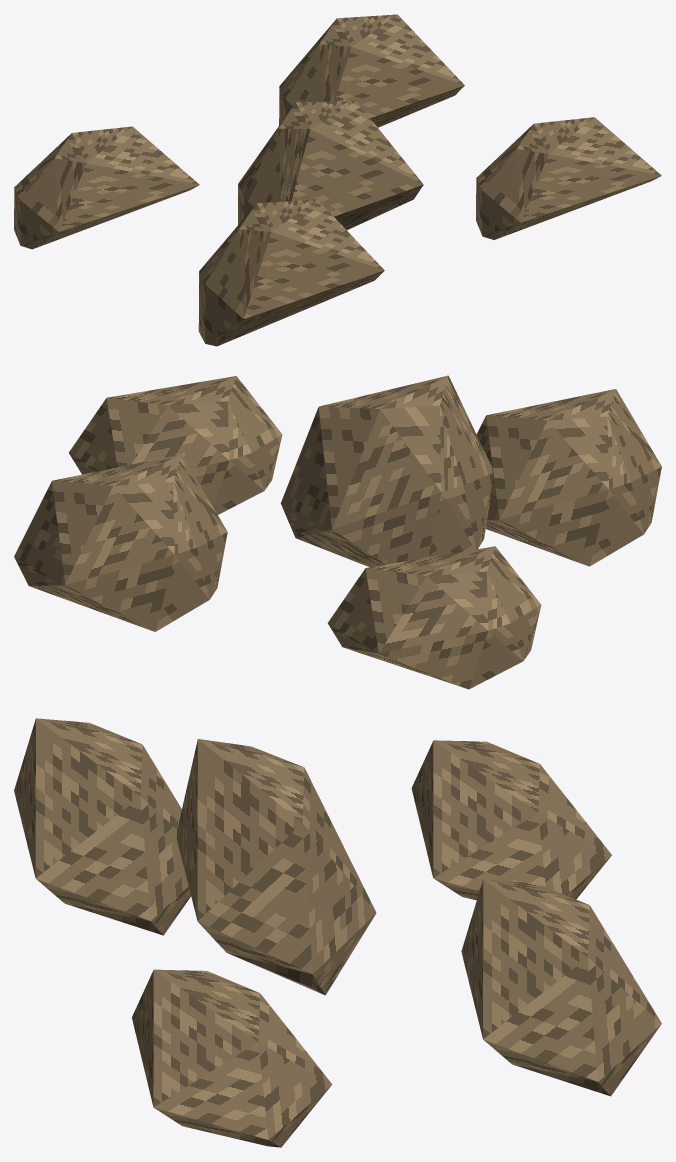
File: acidchitin_piece.glb
3 renders of one model, top to bottom at view 1: azimuth 30°, elevation 25°; view 2: azimuth 150°, elevation 25°; view 3: azimuth 270°, elevation 25°, orthographic. The views are drawn at different scales.
Parts seen in each view (by area): view 1: block_individual irregular fragment (×5); view 2: block_individual irregular fragment (×5); view 3: block_individual irregular fragment (×5).
Part boxes in pixels (x1,y1,x2,y2): block_individual irregular fragment (×5): (14, 14, 661, 346); block_individual irregular fragment (×5): (14, 375, 661, 689); block_individual irregular fragment (×5): (14, 718, 661, 1147).
Bounding box in the file's own units: 0.1203 × 0.0361 × 0.0982.
1 material, 1 textured.
